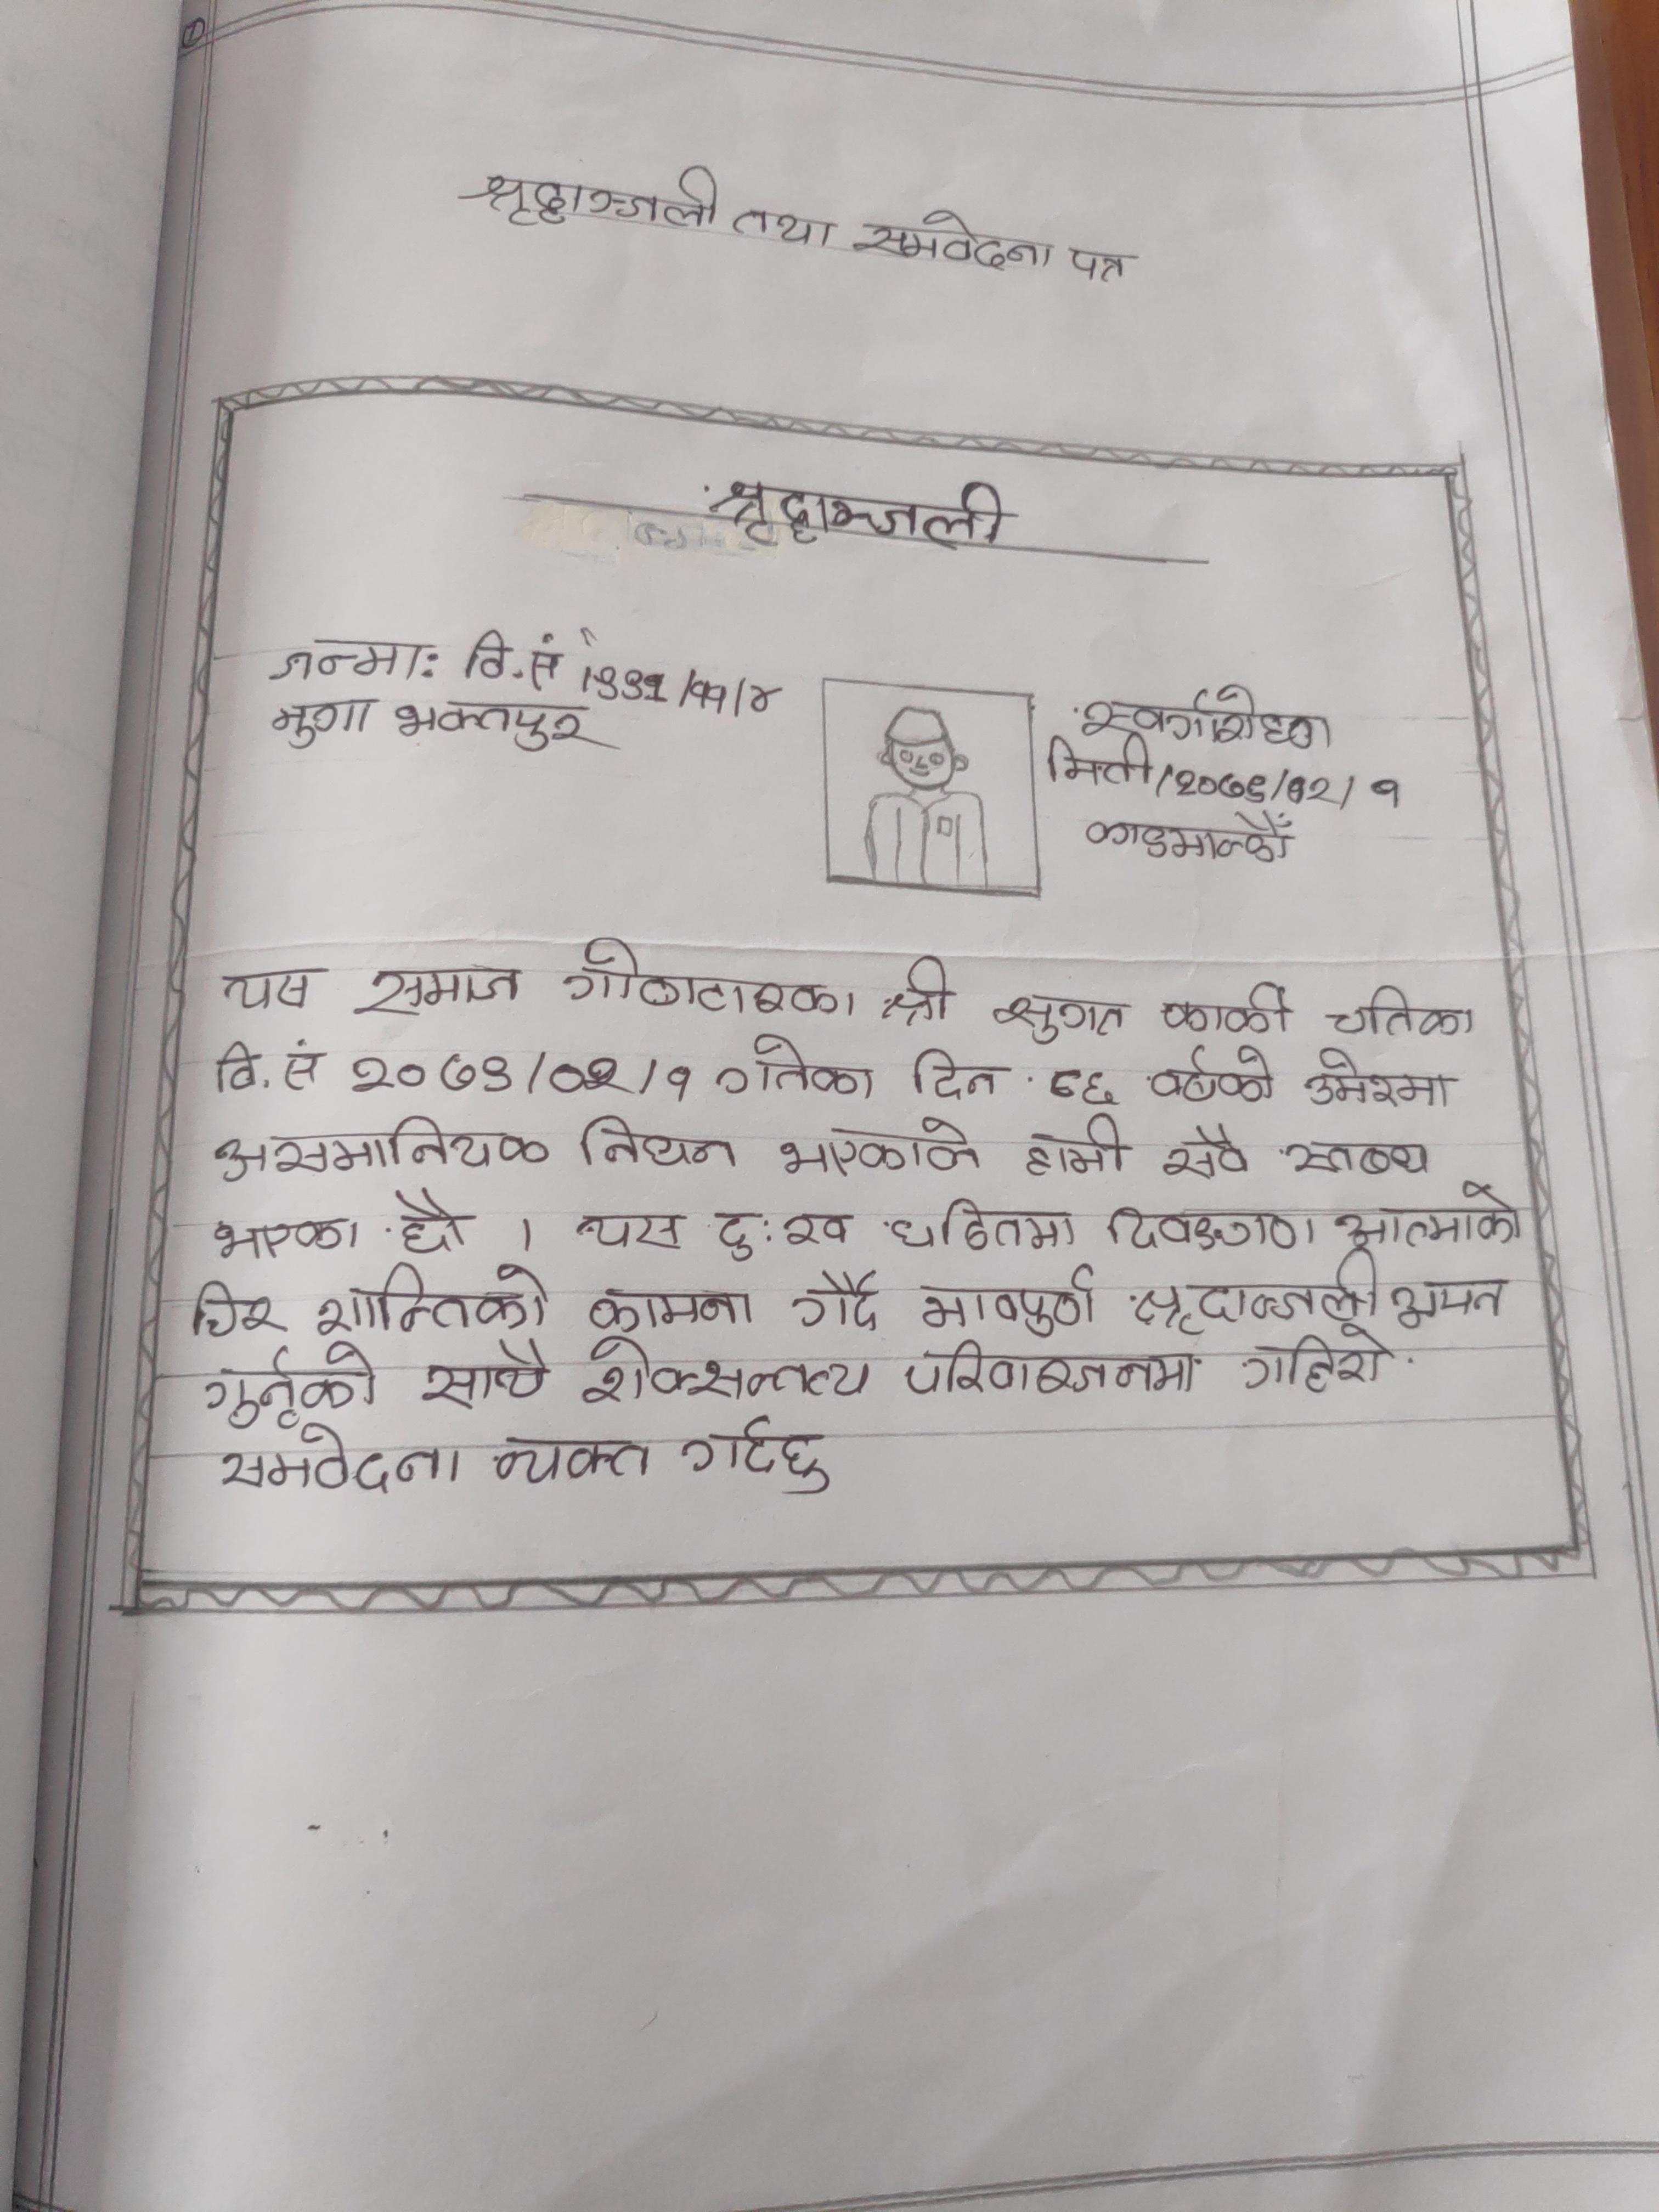text: (708, 470, 1009, 561), (568, 935, 863, 1024), (209, 1115, 558, 1184), (579, 1336, 875, 1409), (467, 162, 723, 239), (345, 1052, 697, 1108), (1124, 1256, 1384, 1329), (211, 1421, 465, 1494), (904, 1341, 1201, 1404), (1068, 681, 1338, 749), (315, 1261, 552, 1336), (904, 1258, 1103, 1345), (575, 644, 784, 714), (202, 1346, 380, 1428), (1079, 805, 1295, 871), (380, 700, 601, 761), (1330, 1181, 1527, 1249), (681, 1418, 840, 1501), (856, 211, 1056, 275), (885, 1193, 1084, 1252), (1164, 761, 1405, 810), (716, 1031, 877, 1104), (1101, 1198, 1324, 1251), (777, 1120, 979, 1177), (1232, 1325, 1387, 1397), (577, 1109, 748, 1174), (486, 1428, 655, 1491), (359, 961, 533, 1021), (415, 1339, 558, 1411), (1324, 986, 1483, 1047), (1298, 1050, 1453, 1109), (702, 1204, 857, 1263), (1286, 1127, 1436, 1188), (1162, 977, 1298, 1038), (1150, 1045, 1284, 1106), (265, 637, 420, 690), (195, 1212, 364, 1259), (587, 1285, 762, 1331), (992, 993, 1124, 1049), (1014, 1116, 1131, 1174), (460, 622, 559, 688), (788, 1266, 884, 1334), (572, 1207, 687, 1263), (1046, 732, 1154, 791), (1389, 1277, 1507, 1331), (213, 1040, 331, 1092), (1164, 1122, 1253, 1188), (188, 1278, 288, 1338), (387, 1190, 474, 1256), (268, 700, 378, 751), (904, 1045, 1000, 1103), (884, 949, 950, 1031), (725, 204, 836, 247), (221, 972, 326, 1010), (1040, 1066, 1115, 1108), (1065, 240, 1133, 286)
